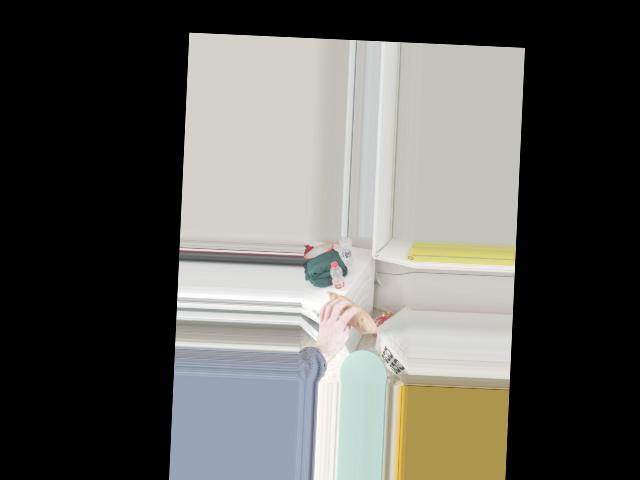sweet_potato: (321, 292, 374, 332)
